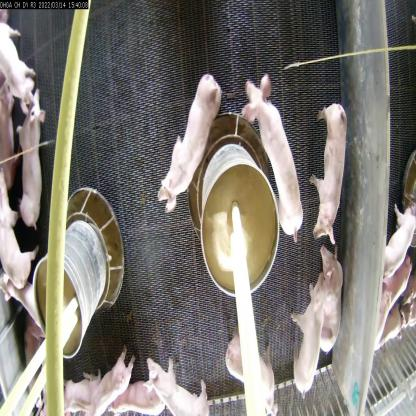Pig: (242, 76, 306, 243), (159, 70, 223, 216), (304, 96, 350, 240), (304, 241, 358, 347), (0, 146, 33, 302), (133, 350, 212, 415), (61, 350, 137, 415), (223, 330, 280, 416), (291, 278, 331, 388), (20, 106, 52, 233), (104, 376, 176, 415)
